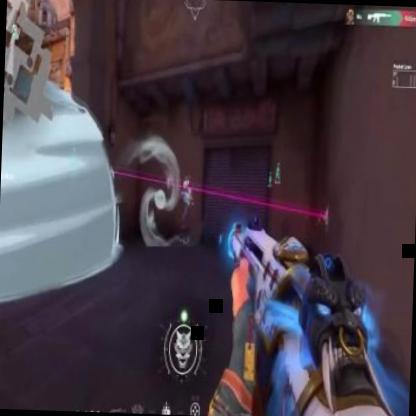enemy: (178, 174, 196, 248)
enemy_head: (184, 177, 191, 190)
